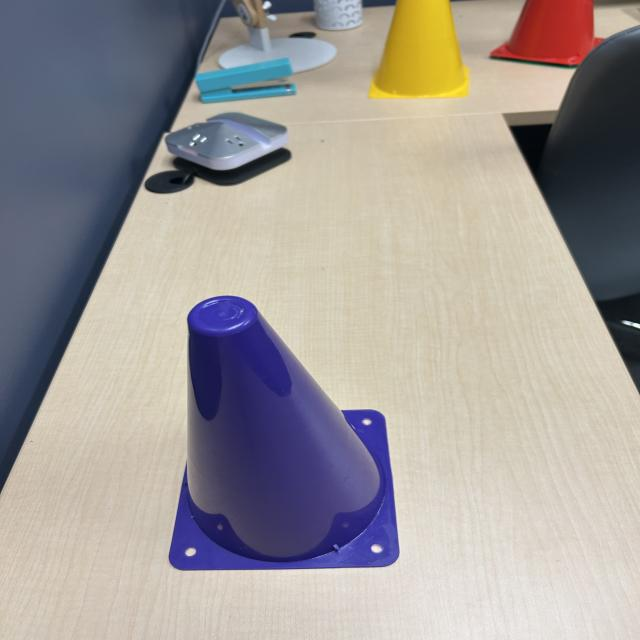purple cone: (166, 292, 413, 574)
